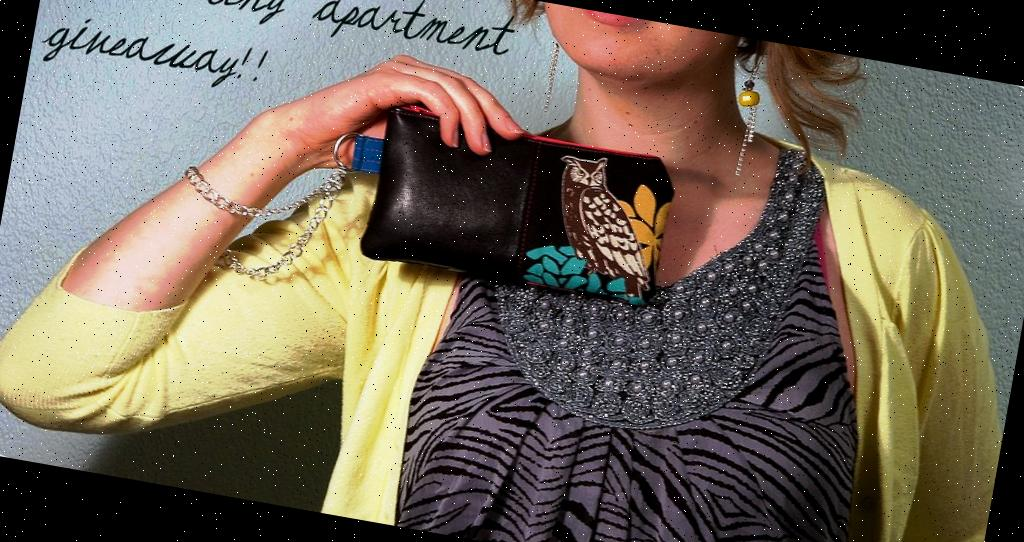Owl: (541, 151, 670, 303)
